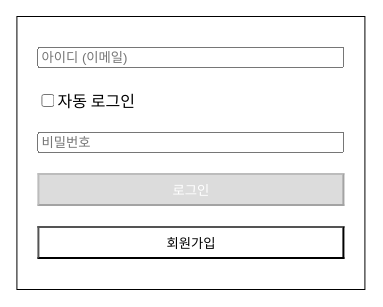
Test case: login 페이지 테스트 › 10. 아이디(이메일) 입력 필드에서 @ 키가 없을 시, 자동완성 목록이 사라 지는가
Type "abcdefg@" into the field with id "email".
click(191, 58); type("abcdefg@")  # box top-left (37, 47), bottom-right (344, 68)
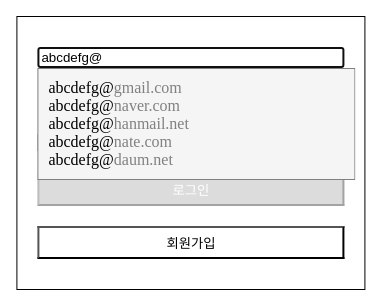
Check: the element with class "option-panel" is shown, box top-left (37, 68), bottom-right (355, 180)
Press Backspace in the field with id "email", box top-left (37, 47), bottom-right (344, 68)
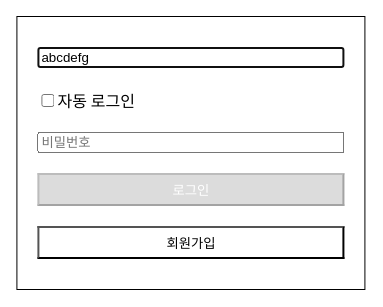
Check: the element with class "option-panel" is gone
